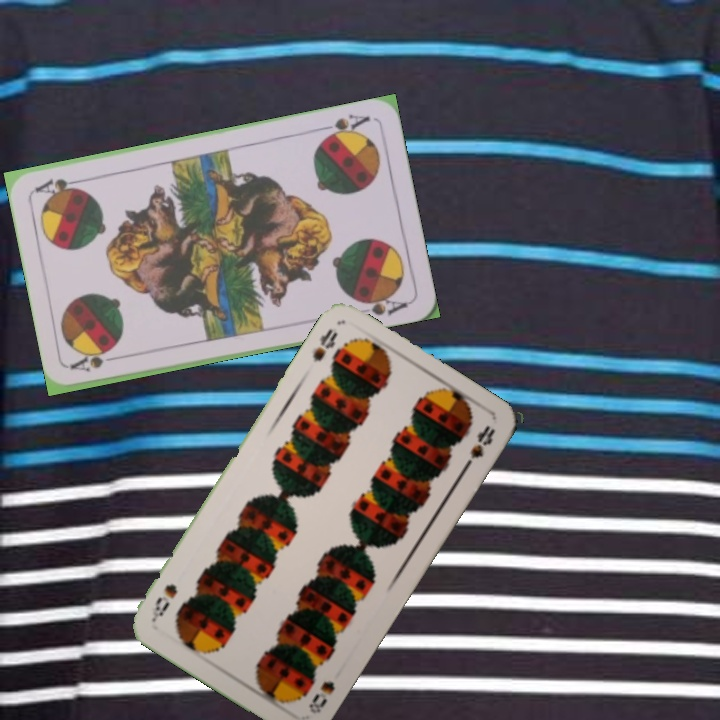S8: (304, 677, 338, 717), (308, 324, 340, 365)
SA: (315, 110, 373, 143), (67, 348, 126, 375)
